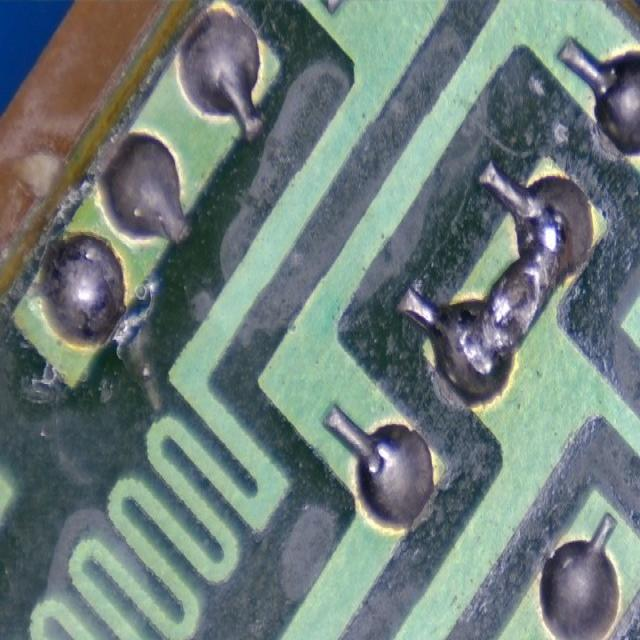Short_circuit: (455, 212, 566, 375)
